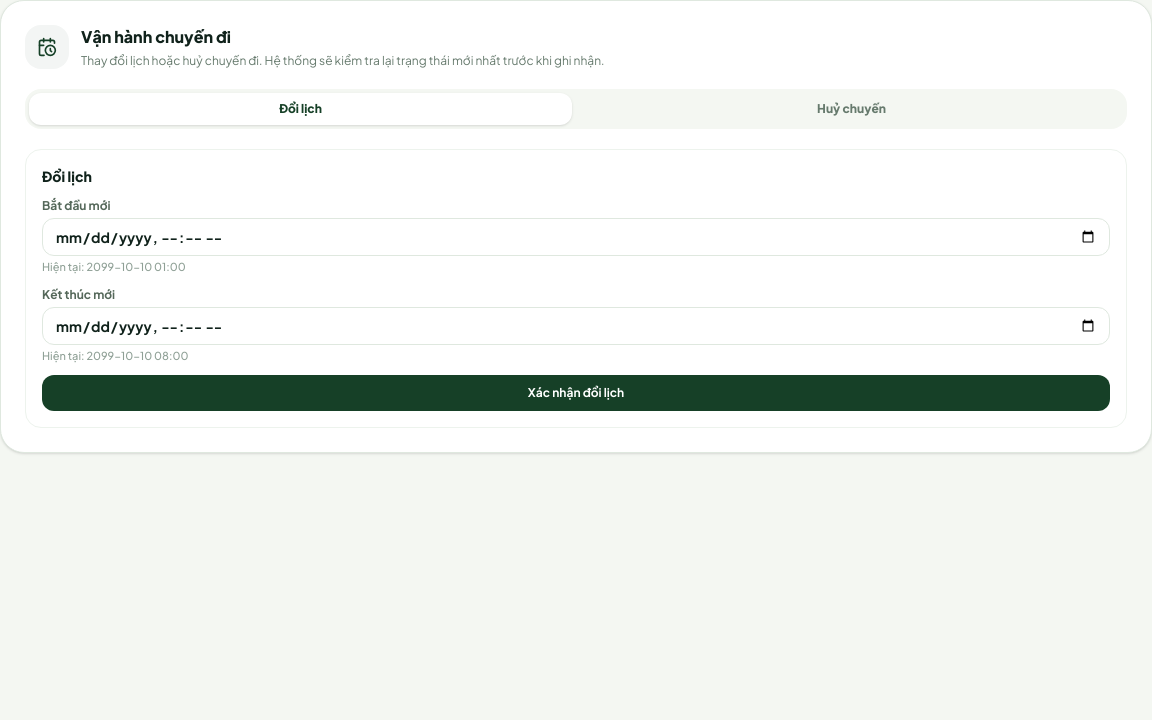
Test: HostTripOperationsPanel › validates reschedule dates immediately when selected
The width and height of the screenshot is (1152, 720).
Type "2020-01-01T01:00" into the field labelled "Bắt đầu mới Hiện tại: 2099-10-10 01:00". click: x=576, y=237
box: [42,218,1110,256]
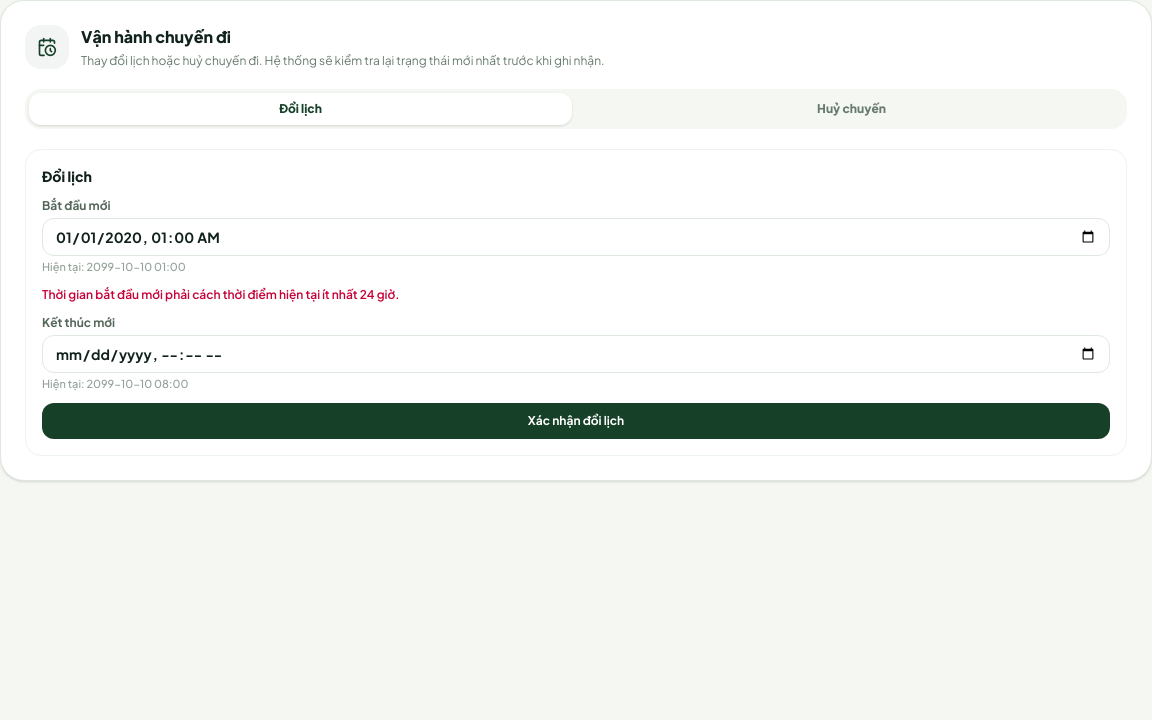
Expected: the text "Thời gian bắt đầu mới phải cách thời điểm hiện tại ít nhất 24 giờ." is shown, [42,287,400,302]
Type "2019-01-01T01:00" into the field labelled "Kết thúc mới Hiện tại: 2099-10-10 08:00". click: x=576, y=354
box: [42,335,1110,373]
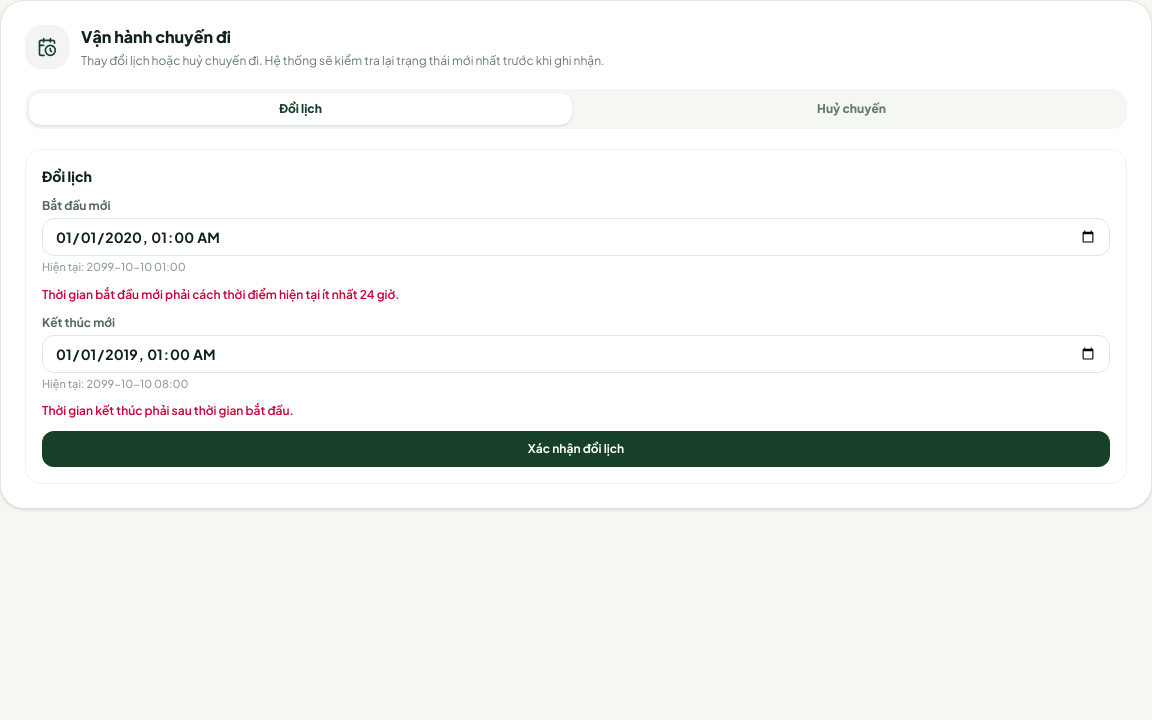
Expected: the text "Thời gian kết thúc phải sau thời gian bắt đầu." is shown, [42,403,294,418]
